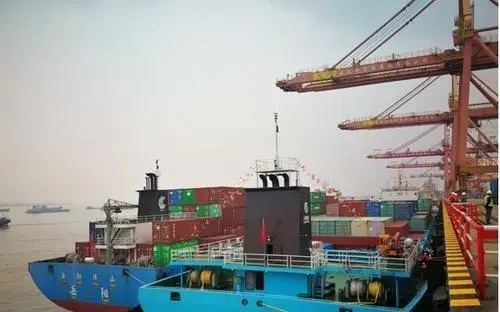Cargoship: (35, 108, 337, 305), (134, 165, 442, 310)
